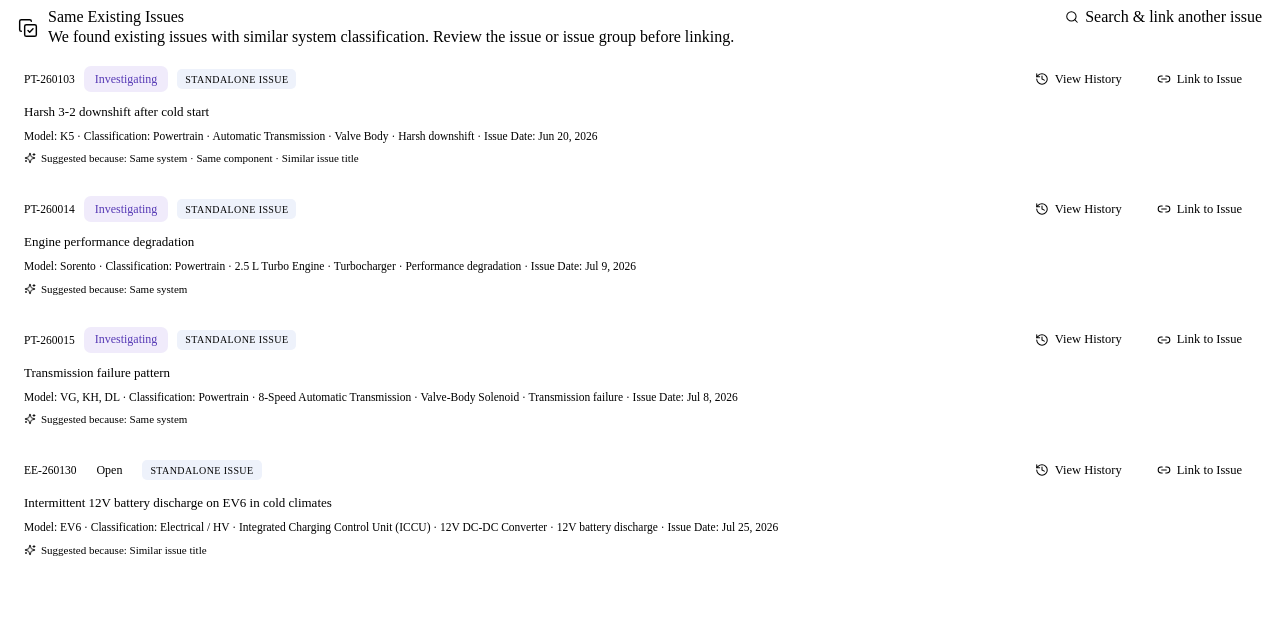
Scenario: search offers only issues it would be useful to link › says so when nothing matches, quoting what was searched for
The image size is (1280, 627).
Click the button "Search & link another issue" at [1164, 17], box [1055,8,1272,26]
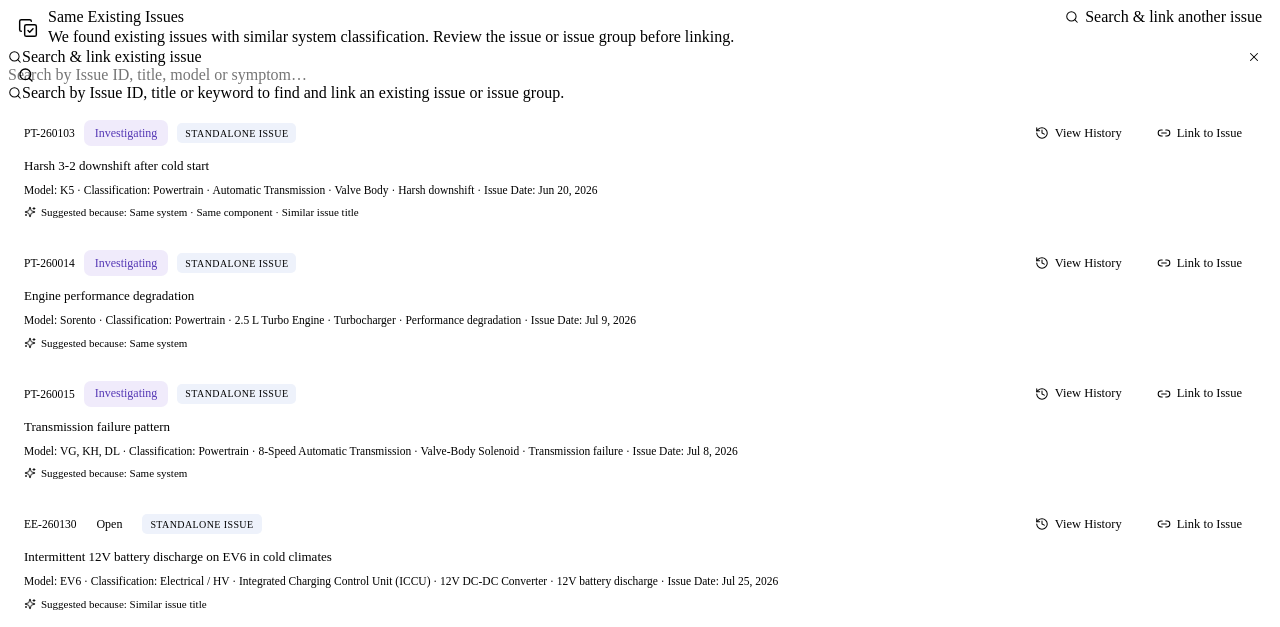
Type "zzzz-no-such-issue" into the search field named "search issues to link" at [640, 75], box [8,66,1272,84]
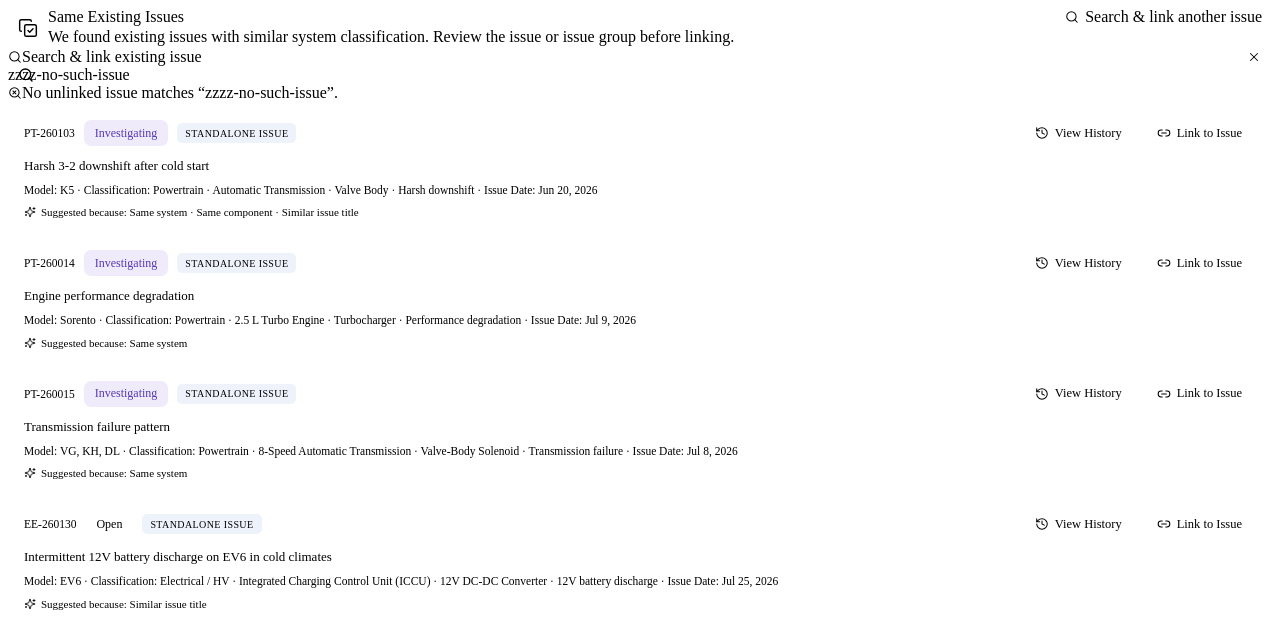
Expected: the text "zzzz-no-such-issue" is shown, [22,84,338,101]
Expected: the text "No unlinked issue matches" is shown, [22,84,338,101]
